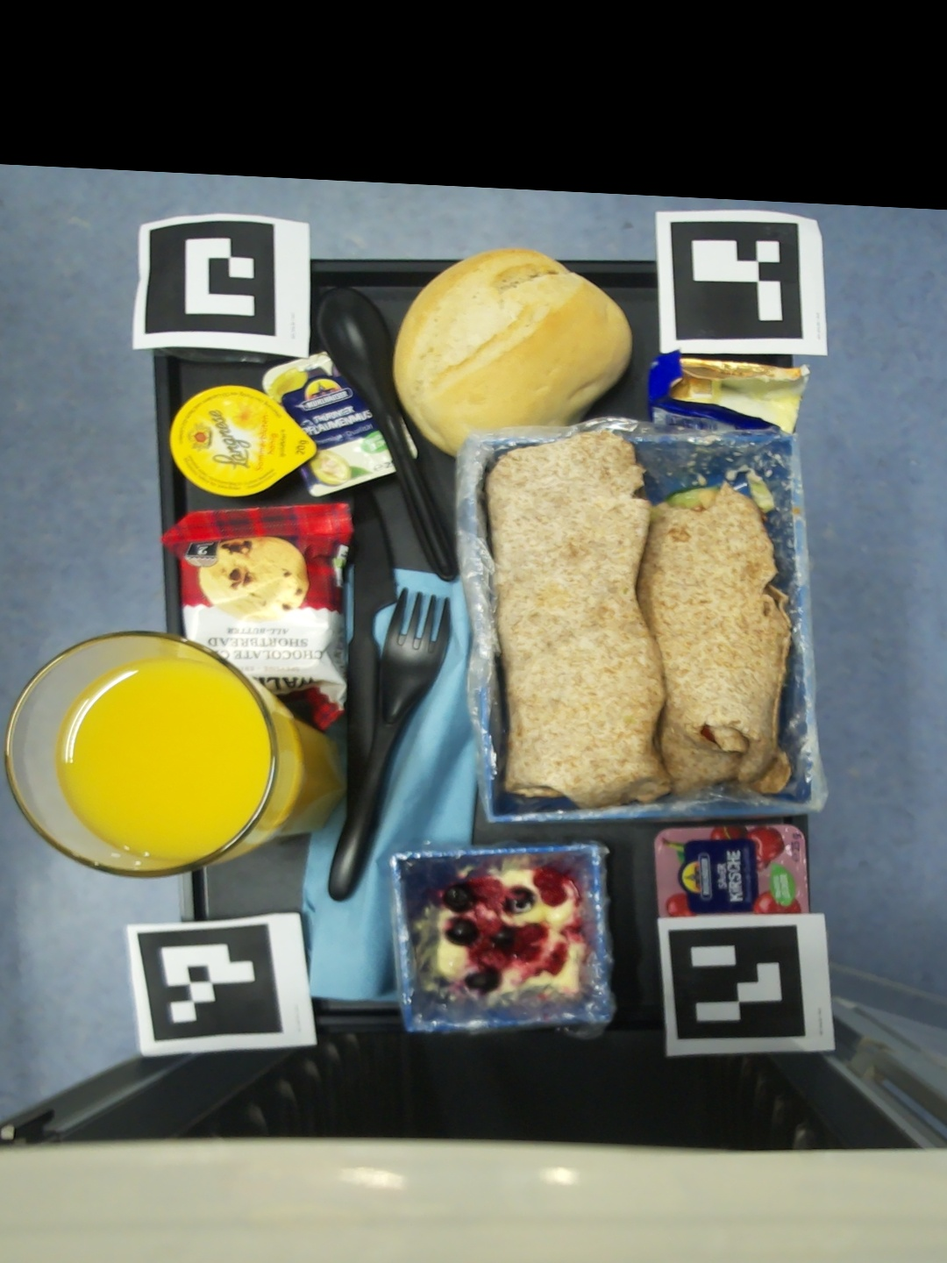bread_roll: (394, 248, 633, 457)
cherry_jam: (655, 825, 806, 917)
cookie: (161, 503, 353, 731)
honey: (169, 386, 317, 497), (648, 350, 813, 432)
orange_juice_bottle: (4, 632, 342, 880)
plum_jam: (262, 352, 402, 497)
vanilla_pudding_with_fruits: (435, 855, 586, 997)
wrap_half_1: (486, 430, 673, 809)
wrap_half_2: (636, 472, 792, 795)
